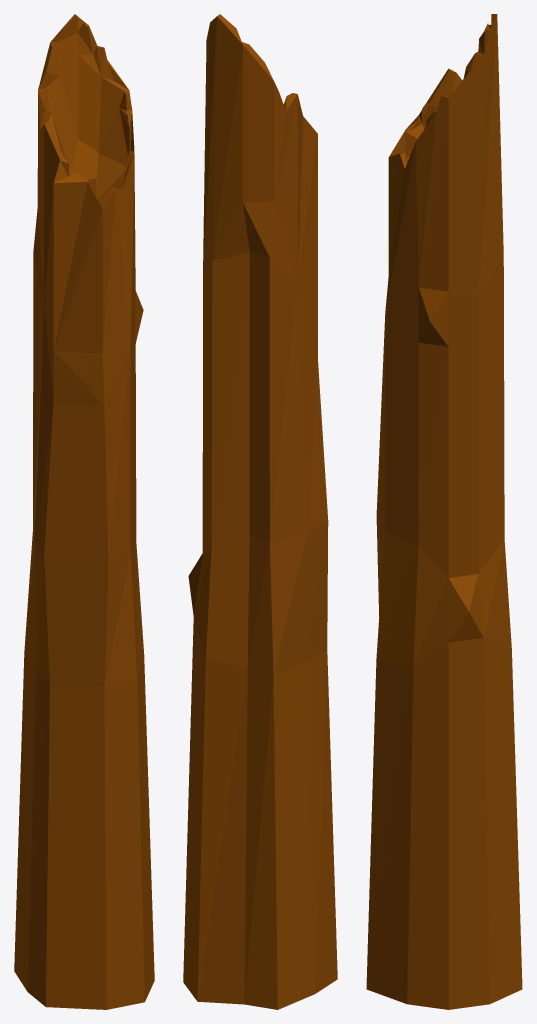
File: Trunk.FBX
The picture shows the model from 3 angles, left to right: view 1: azimuth 30°, elevation 25°; view 2: azimuth 150°, elevation 25°; view 3: azimuth 270°, elevation 25°; orthographic projection. The views are drawn at different scales.
Parts seen in each view (by area): view 1: Cylinder; view 2: Cylinder; view 3: Cylinder.
Boxes of the visible parts, x1,y1,x2,y2 form: Cylinder: (14, 14, 154, 1009); Cylinder: (183, 14, 337, 1009); Cylinder: (366, 14, 522, 1009).
Bounding box in the file's own units: 2.59 × 19.44 × 2.83.
